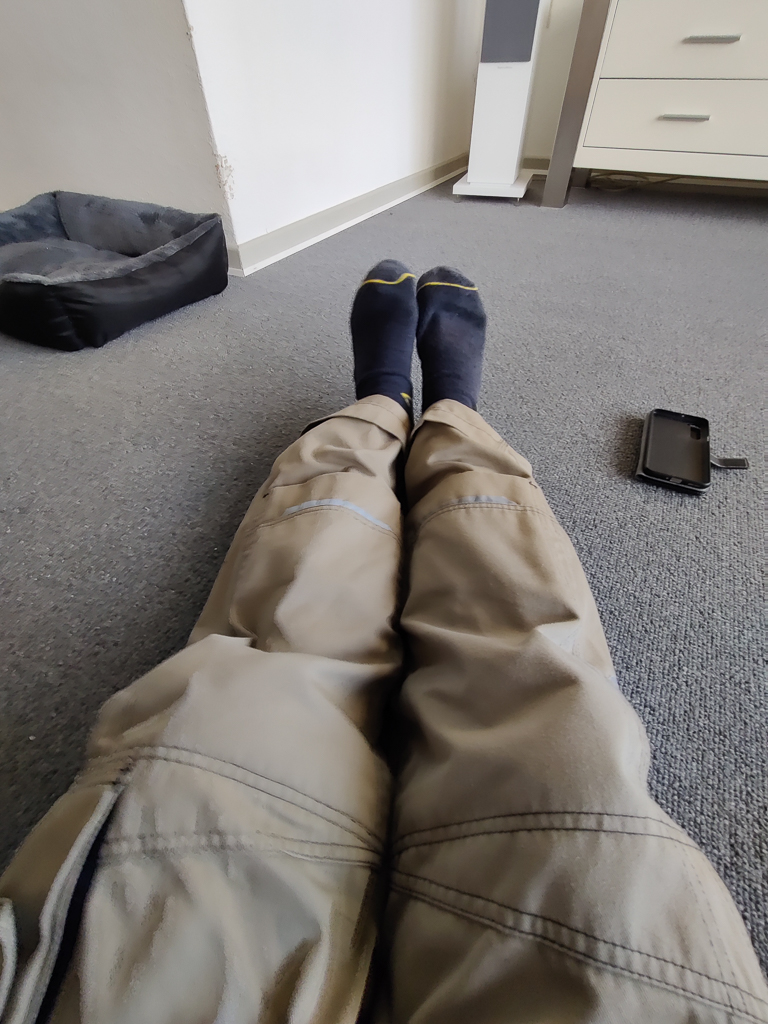Humanoid: (0, 249, 768, 1024)
